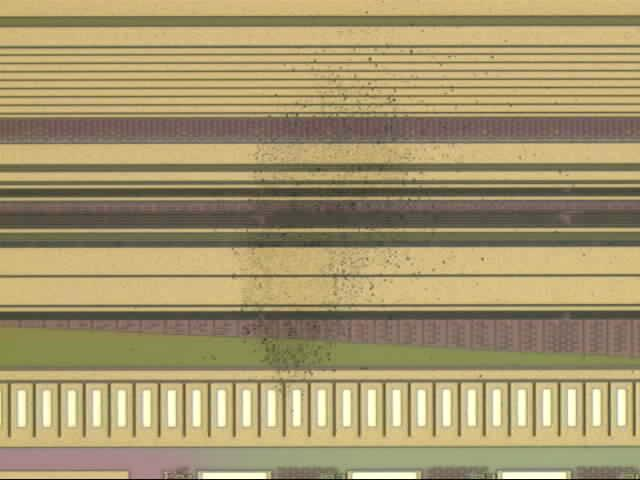PO CONTAMINATION: (221, 2, 519, 427)
